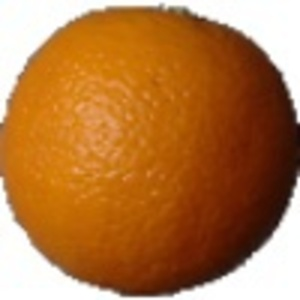laranja: (2, 3, 298, 294)
